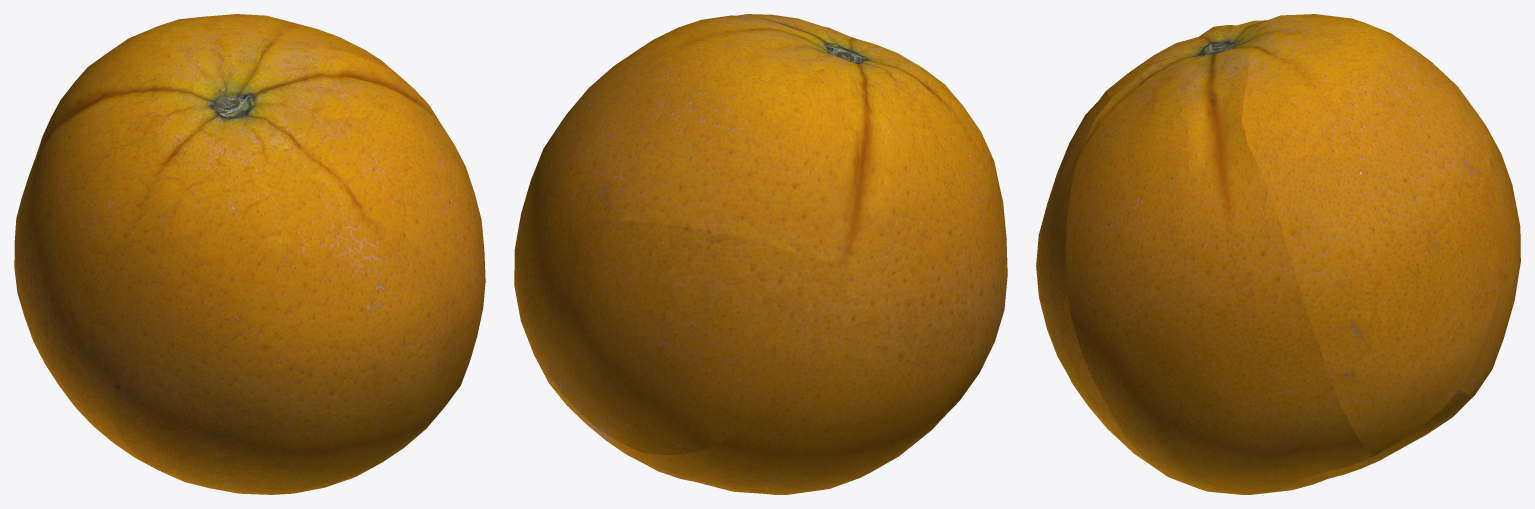
The model's file is orange.dae.
3 renders of one model, left to right at view 1: azimuth 30°, elevation 25°; view 2: azimuth 150°, elevation 25°; view 3: azimuth 270°, elevation 25°, orthographic. The views are drawn at different scales.
Visible parts, largest first — view 1: Orange; view 2: Orange; view 3: Orange.
Part boxes in pixels (x1=…): Orange: x1=14, y1=14, x2=485, y2=494; Orange: x1=514, y1=14, x2=1007, y2=494; Orange: x1=1036, y1=14, x2=1520, y2=494.
Size of the model in its own units: 0.0747 by 0.0769 by 0.0746.
1 material, 1 textured.
